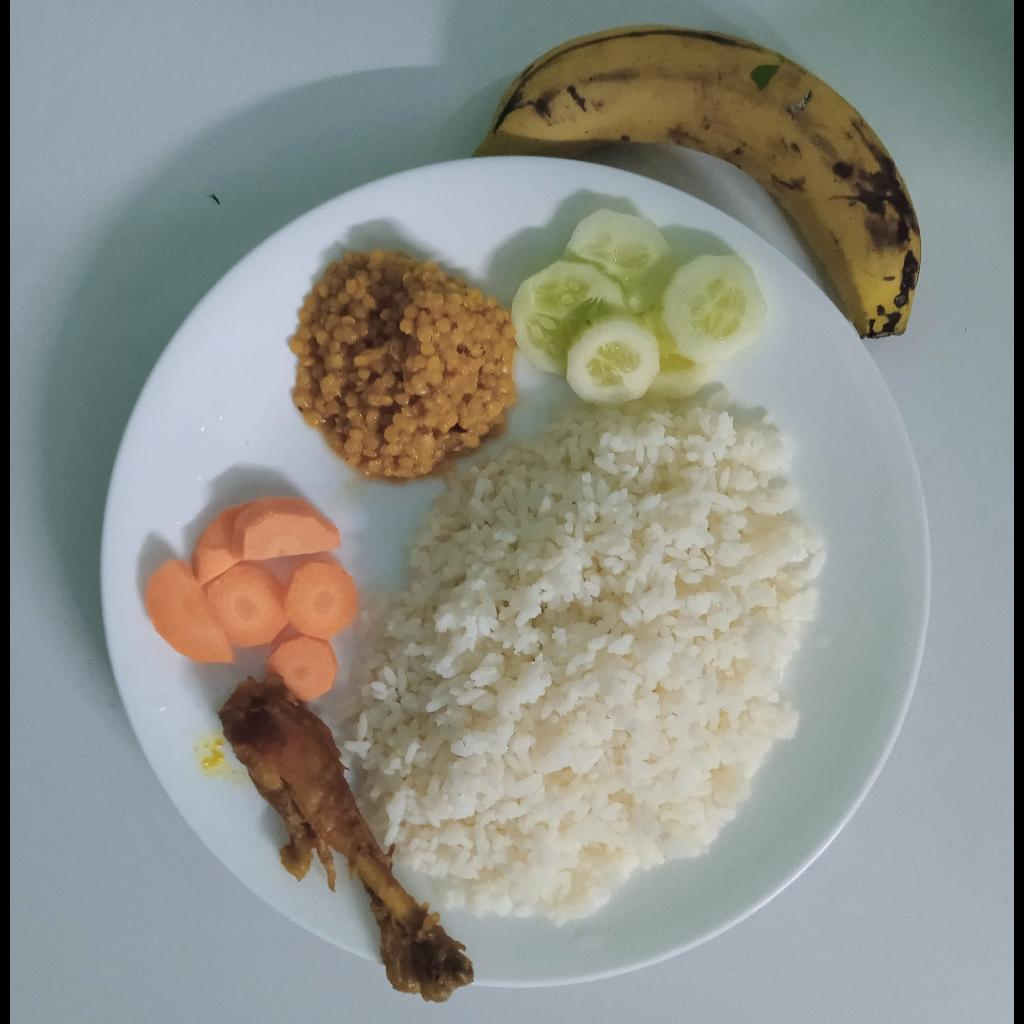banana: (474, 25, 920, 341)
carrot: (147, 495, 358, 703)
chicken: (218, 676, 478, 1006)
cucumber: (513, 208, 767, 406)
daal: (287, 251, 515, 480)
rice: (330, 392, 819, 923)
